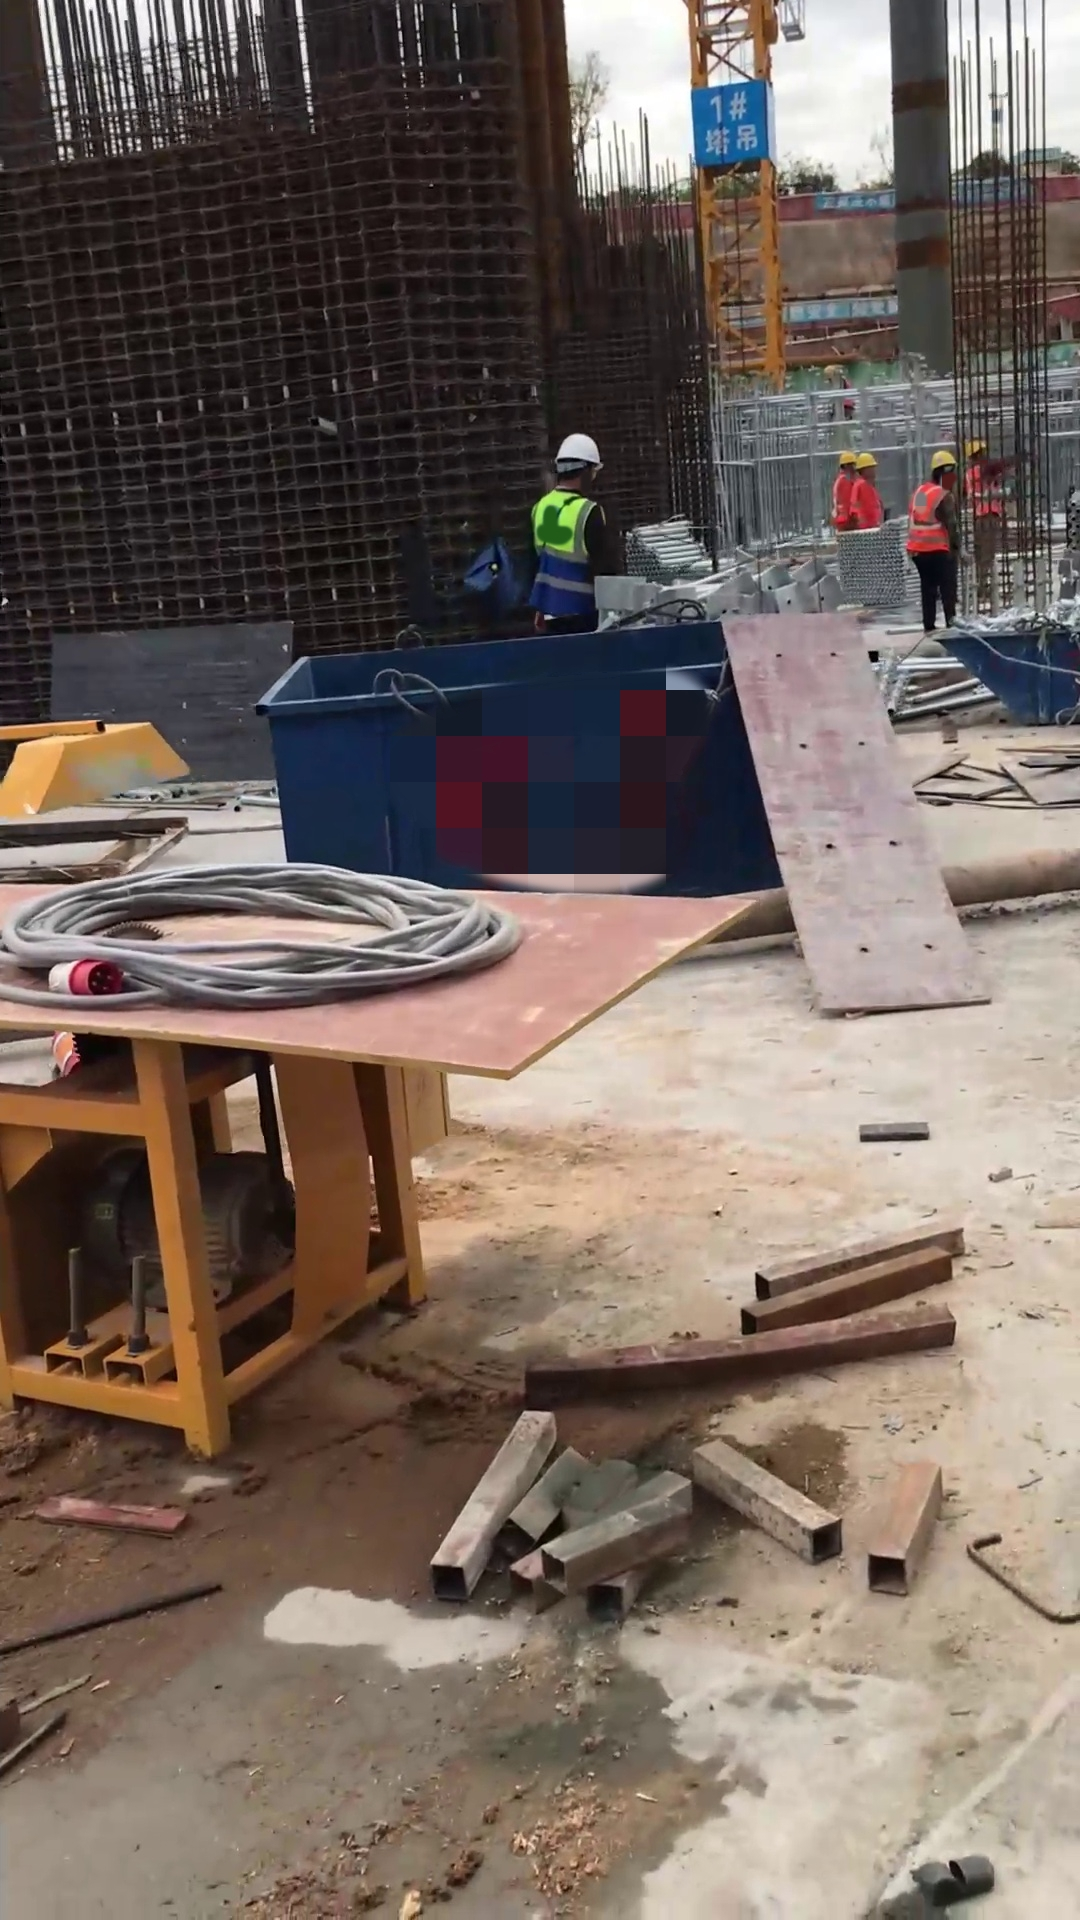cutter: (1, 715, 746, 1463)
helmet: (550, 430, 605, 477), (929, 449, 960, 475), (853, 449, 878, 473), (964, 437, 988, 461), (838, 449, 856, 468), (822, 361, 837, 380)
hopper: (252, 618, 787, 900), (928, 621, 1080, 728)
person: (527, 426, 632, 634), (903, 447, 970, 630), (961, 434, 1015, 606), (850, 450, 887, 534), (830, 448, 857, 531)
scaffold: (832, 517, 923, 608), (622, 512, 723, 578)
slogan: (692, 82, 770, 160), (778, 291, 902, 325), (817, 187, 895, 212)
vest: (527, 484, 605, 618), (902, 480, 955, 554), (963, 462, 1003, 521), (851, 473, 881, 518), (831, 469, 850, 521)
